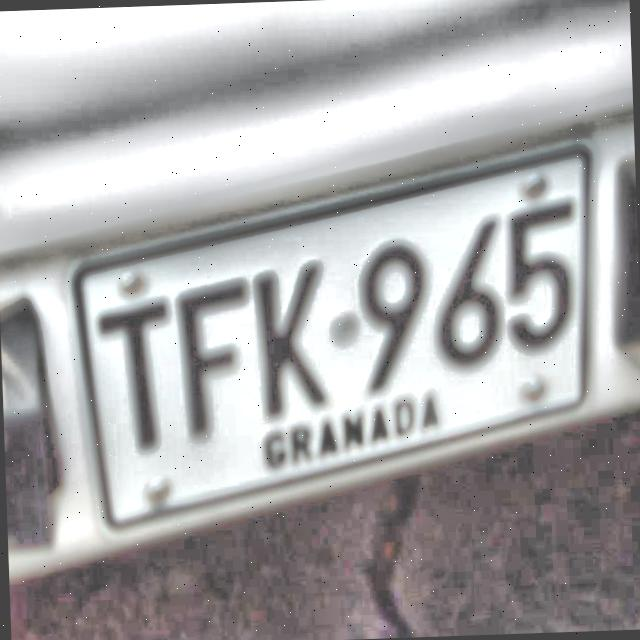5: (505, 193, 578, 362)
6: (426, 214, 510, 377)
9: (345, 235, 432, 403)
F: (172, 274, 263, 446)
K: (249, 255, 335, 426)
T: (89, 293, 181, 459)
